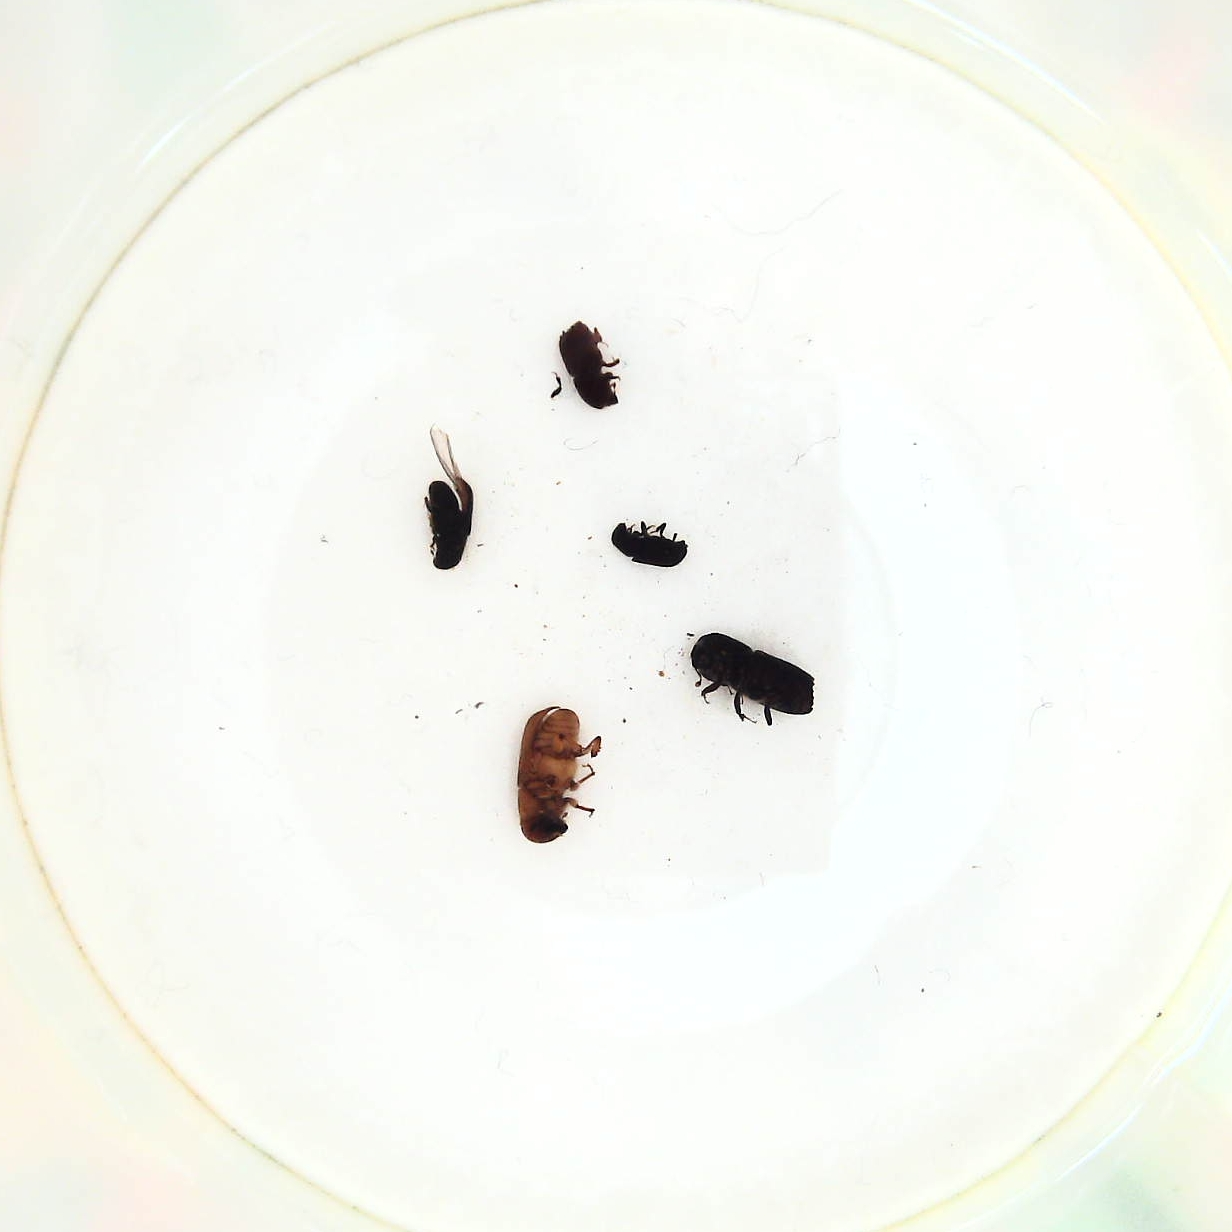Boerner: (681, 624, 825, 729)
Leconte: (509, 702, 608, 846)
armandi: (420, 434, 479, 577)
coleoptera: (606, 517, 694, 571)
linnaeus: (555, 313, 628, 412)
